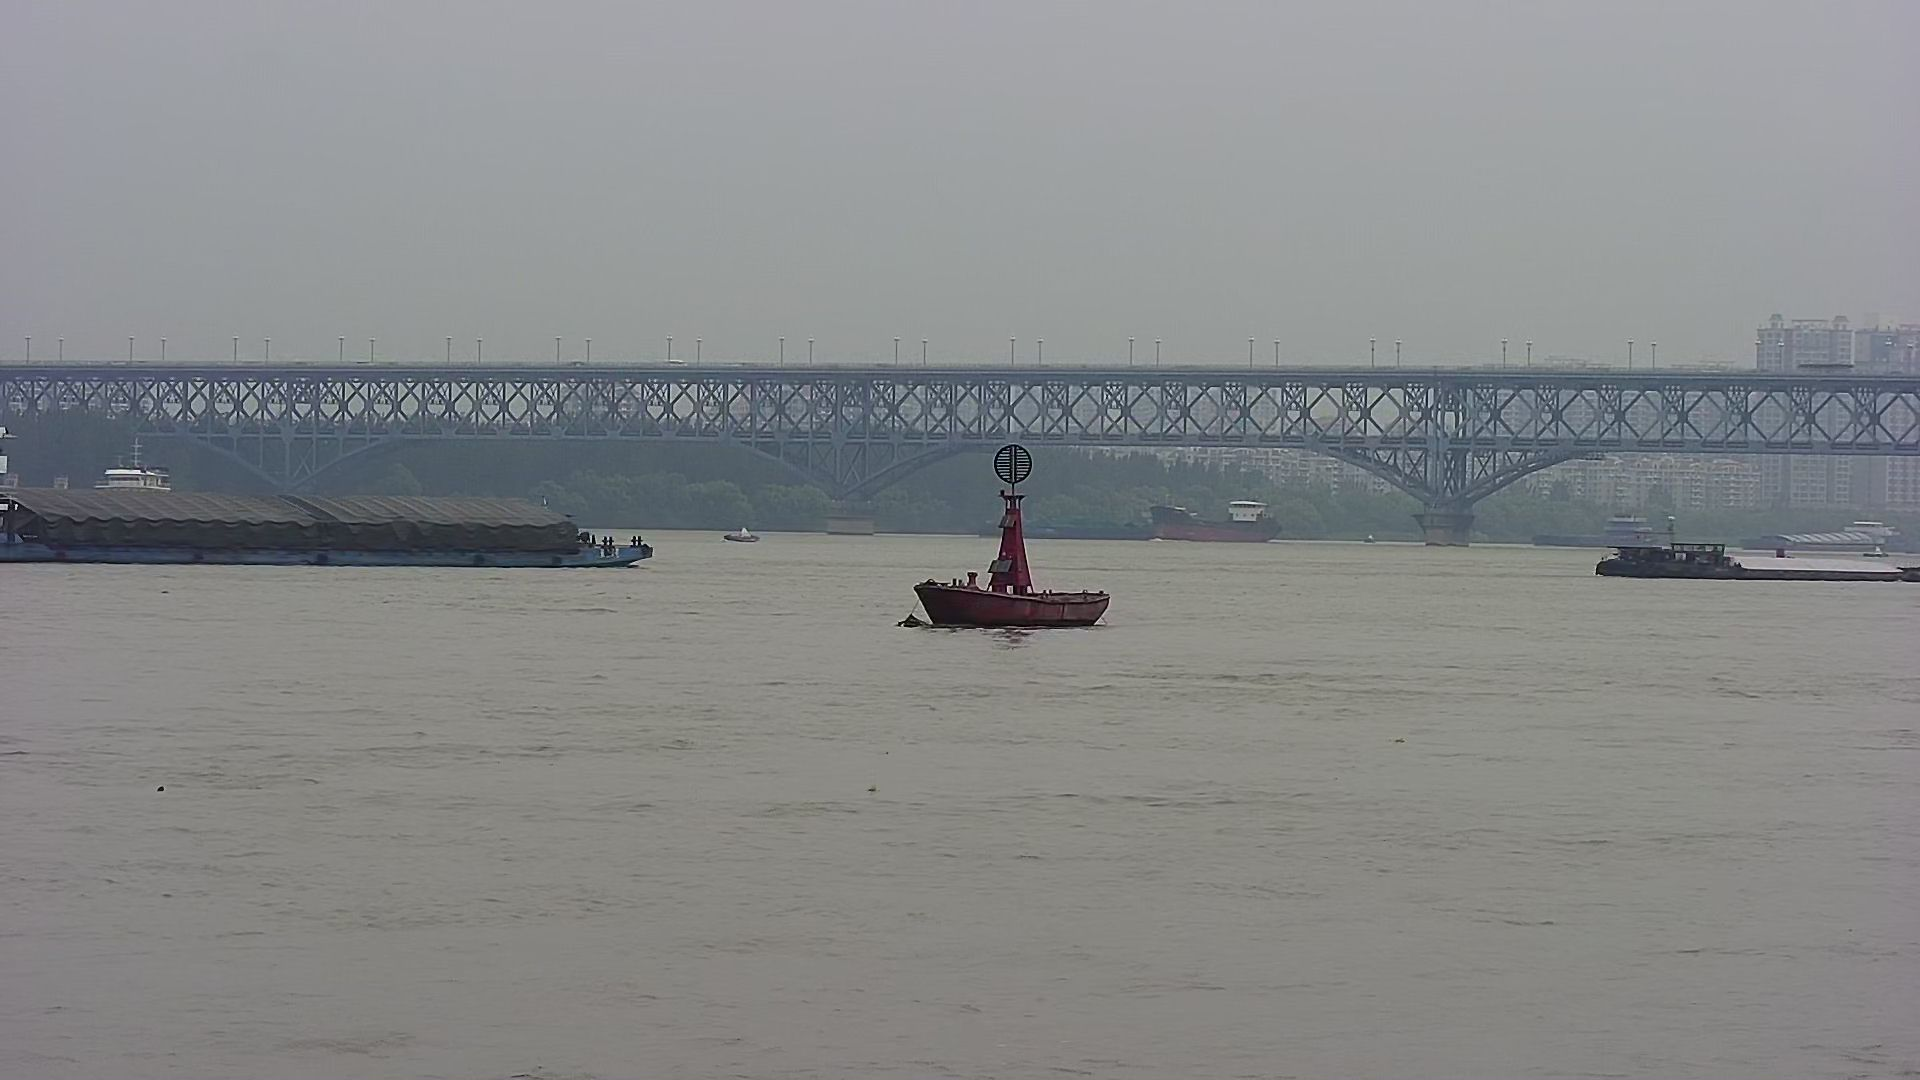boat: (897, 442, 1121, 634), (720, 524, 758, 545)
bridge: (9, 352, 1920, 513)
ship: (11, 481, 654, 568), (1586, 541, 1916, 589), (1139, 496, 1280, 543)
